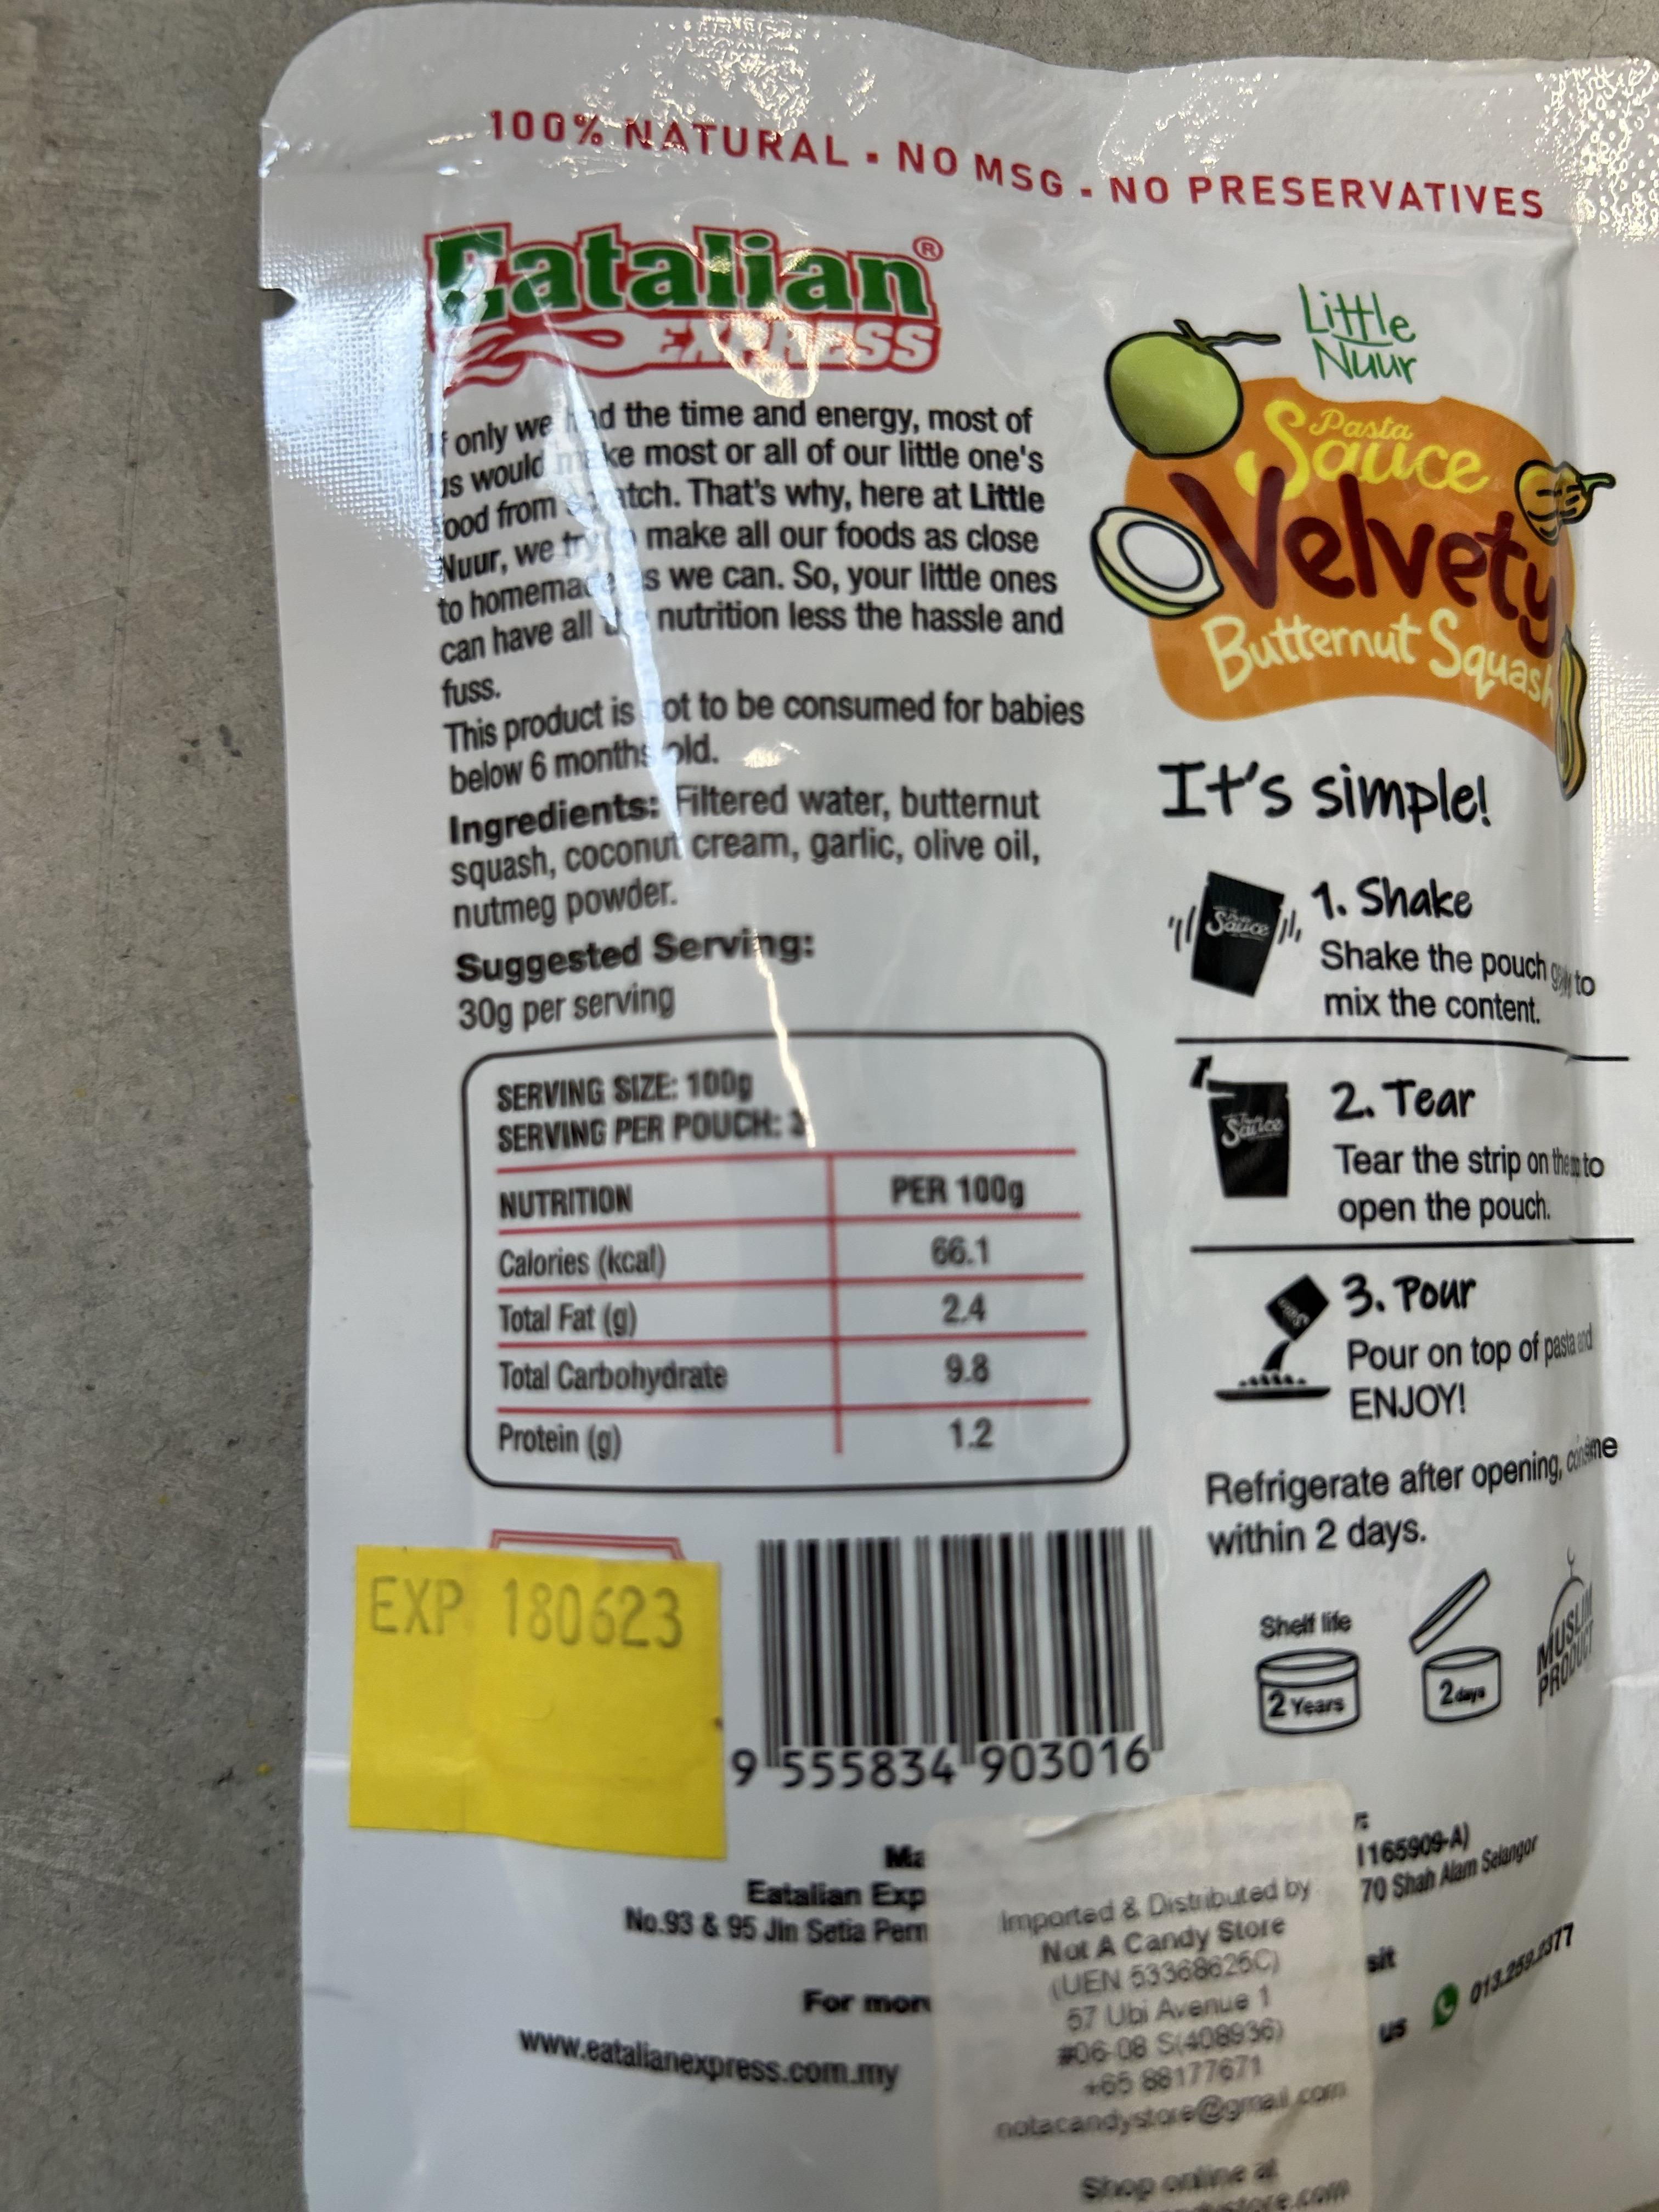object_name: (324, 54, 1657, 2212)
